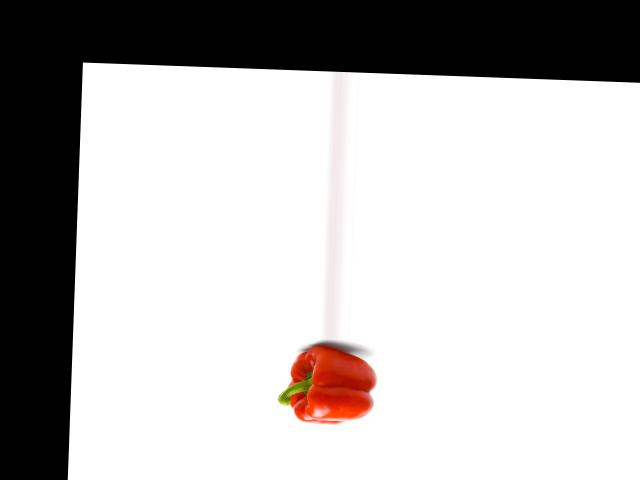bell_pepper: (271, 345, 385, 425)
